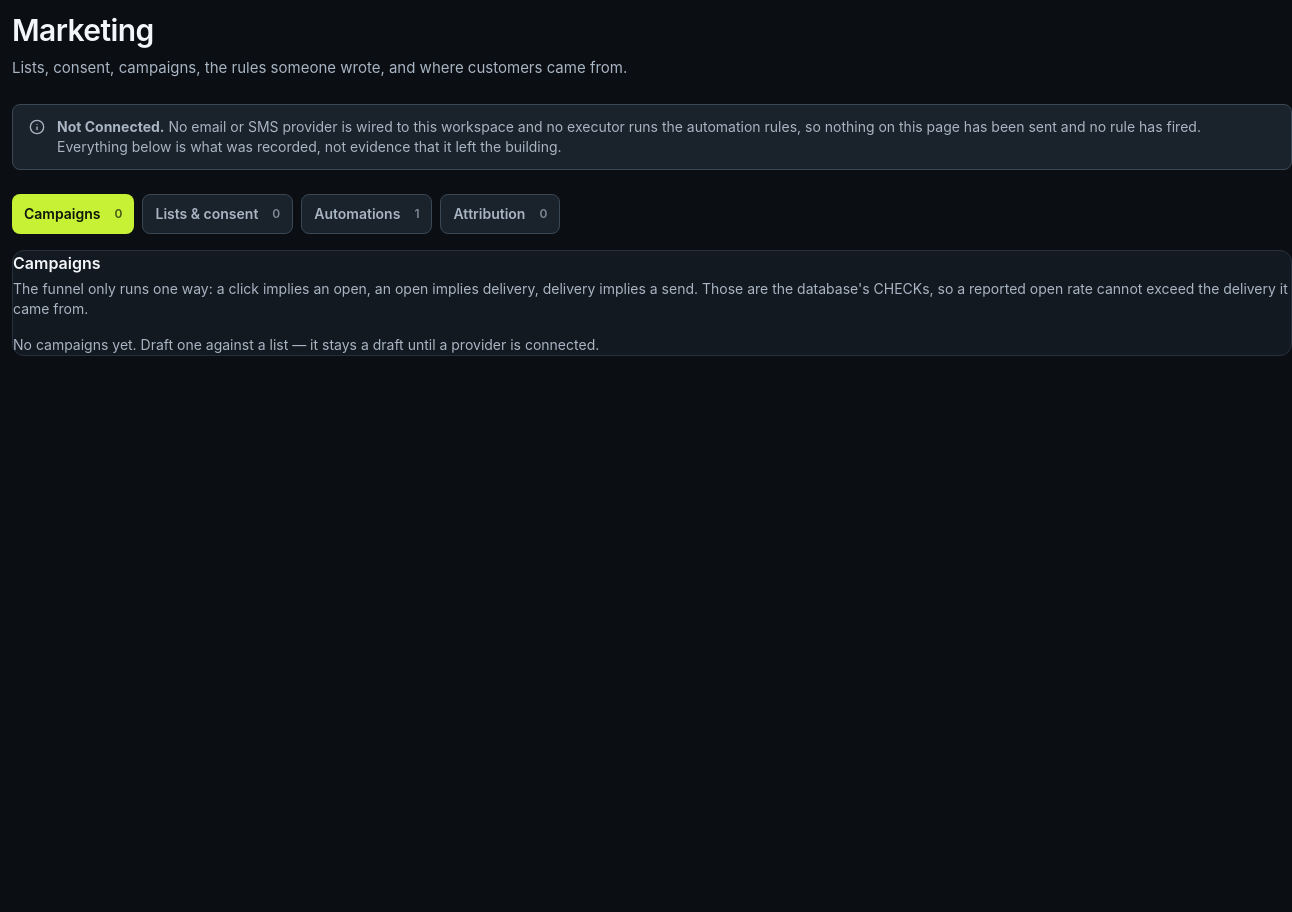
Test: the automation dry run › fetches the rule's dry run and states coverage before listing what would happen
Click the tab "Automations 1": (367, 214) [301, 194, 432, 234]
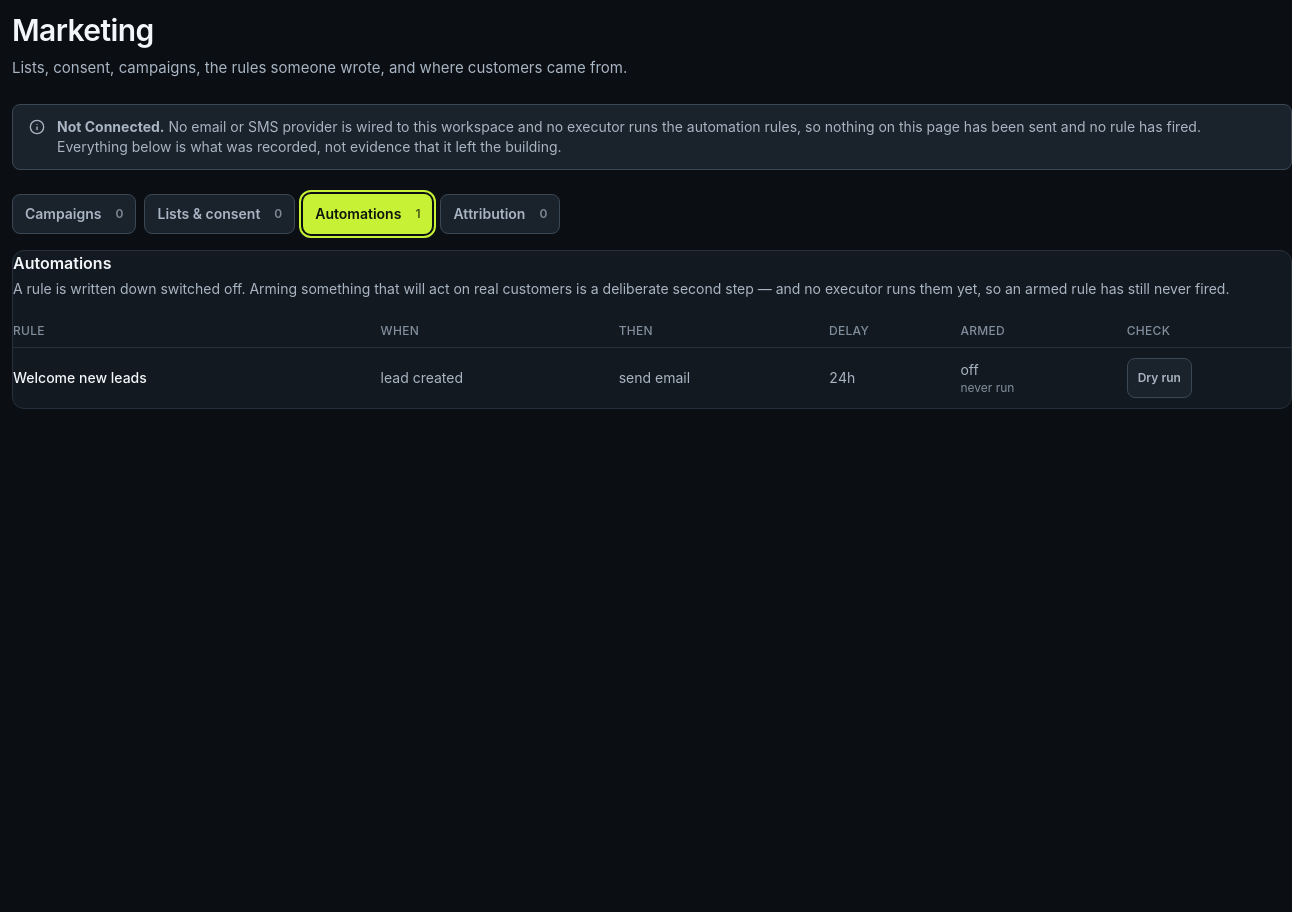
Now the table with test id "services-automations-table" is shown, box [13, 315, 1291, 408]
Click the button with aria-label "Dry run Welcome new leads": (1159, 378) [1127, 358, 1192, 398]
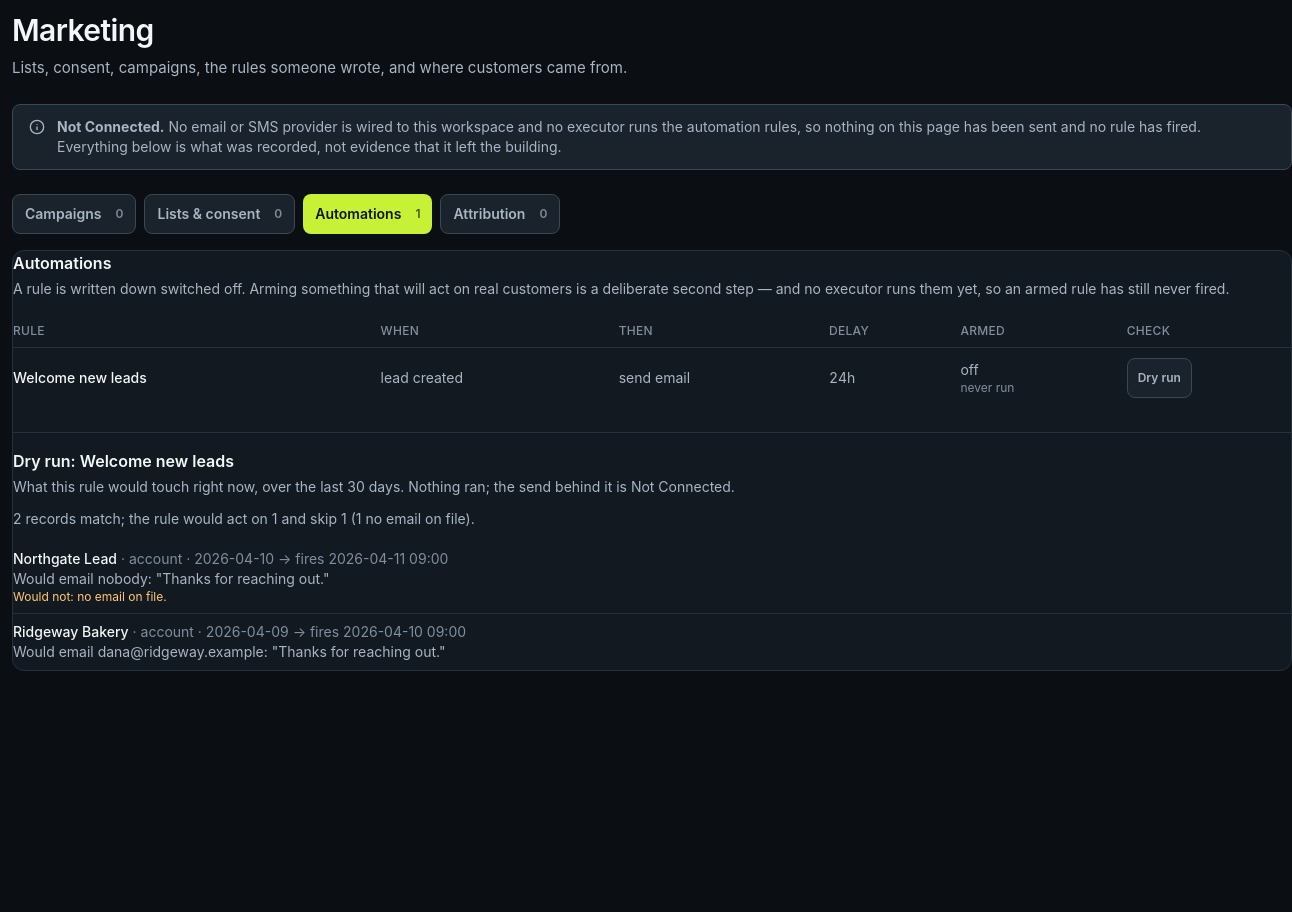
Now the text with test id "services-automation-dry-run-summary" reads "2 records match; the rule would act on 1 and skip 1 (1 no email on file).", box [13, 510, 475, 527]
Now the text "Nothing ran; the send behind it is Not Connected." is shown, box [13, 478, 735, 495]
Now the text "Northgate Lead" is shown, box [13, 550, 117, 567]
